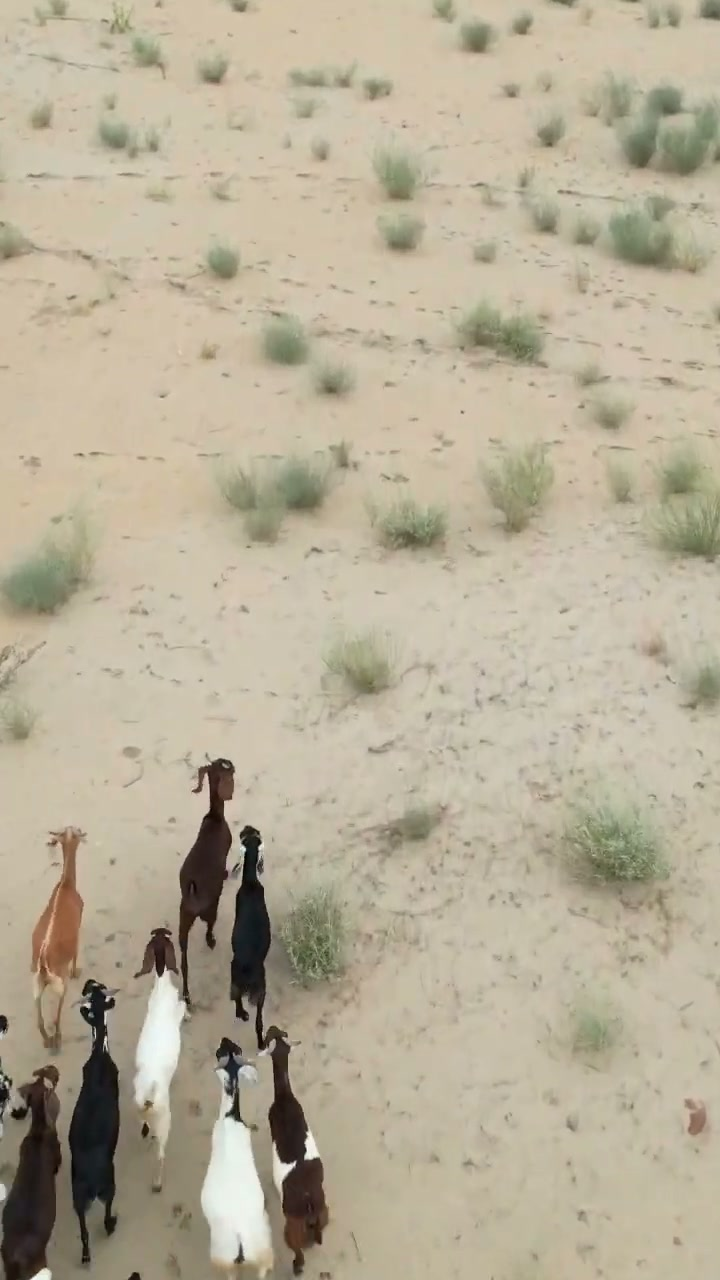animal_foot_print: (103, 665, 148, 953), (137, 1171, 200, 1262)
